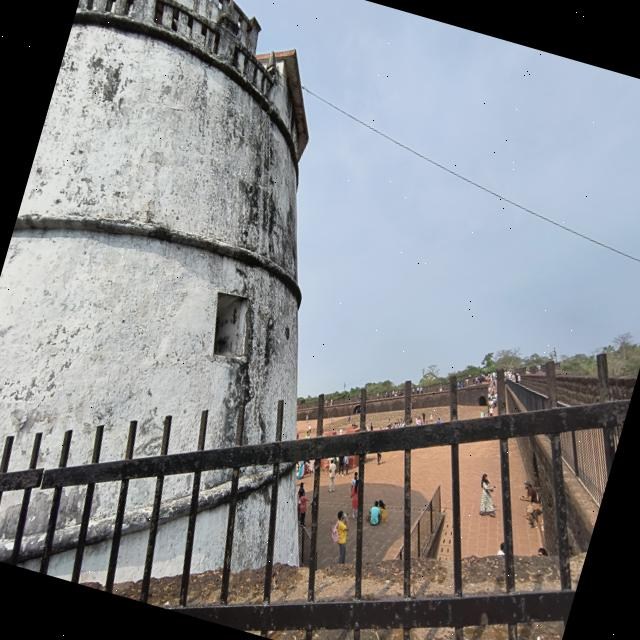Moss growth due to damping: (0, 0, 308, 472)
